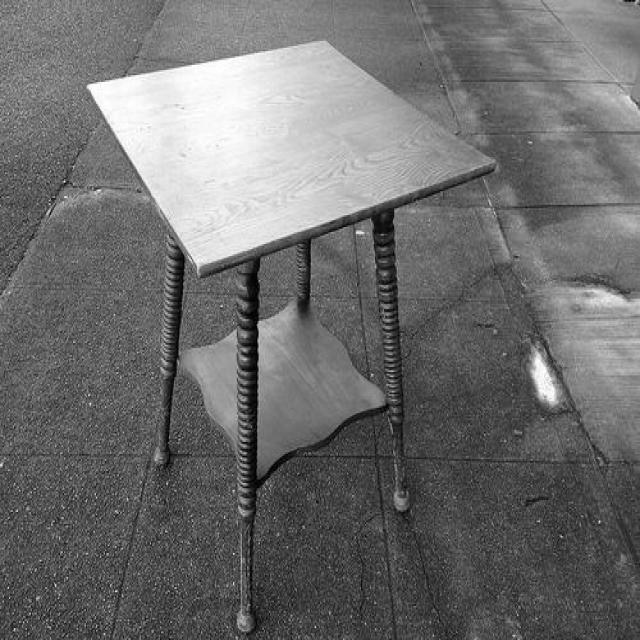table: (86, 40, 497, 632)
